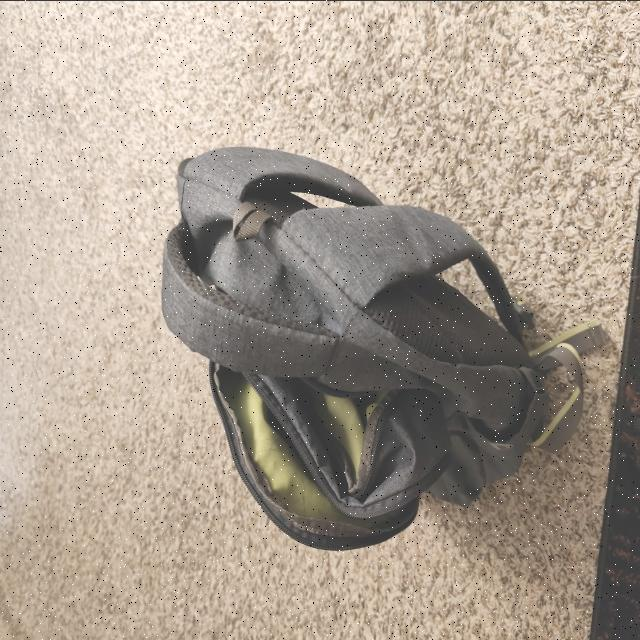bag: (169, 166, 541, 550)
